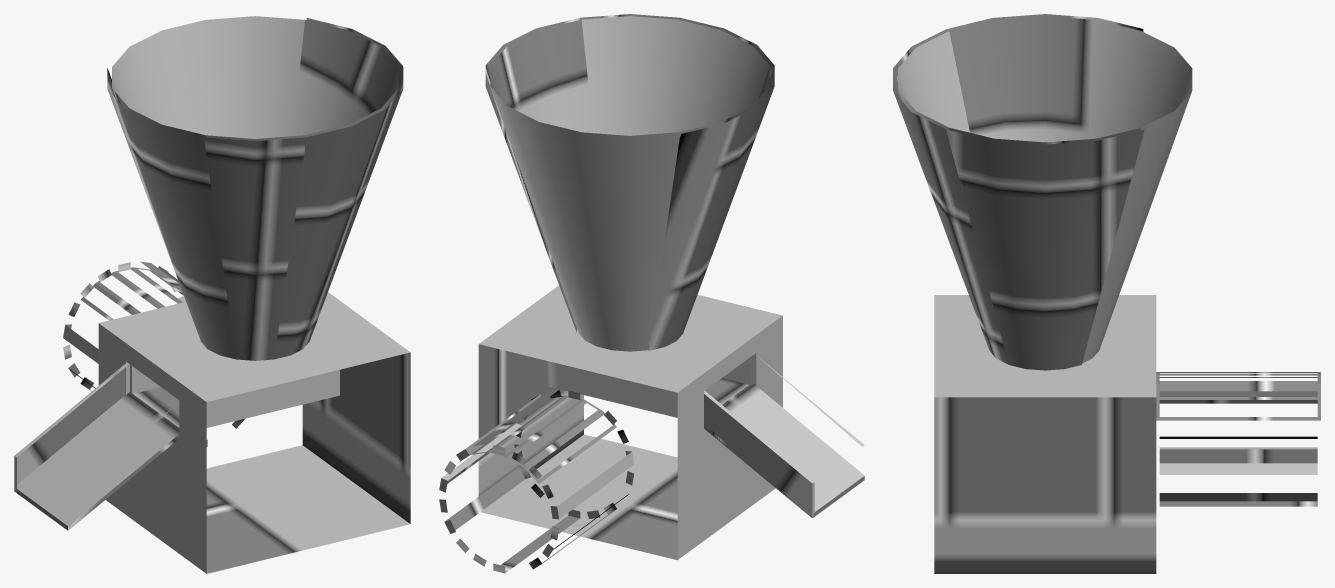
The model's file is pelleter.obj.
3 renders of one model, left to right at view 1: azimuth 30°, elevation 25°; view 2: azimuth 150°, elevation 25°; view 3: azimuth 270°, elevation 25°, orthographic. The views are drawn at different scales.
Visible parts, largest first — view 1: pelleter; view 2: pelleter; view 3: pelleter.
Boxes of the visible parts, x1=… form: pelleter: x1=14, y1=16, x2=410, y2=573; pelleter: x1=439, y1=14, x2=864, y2=573; pelleter: x1=893, y1=14, x2=1320, y2=573.
Size of the model in its own units: 0.7927 by 0.9505 by 0.8303.
